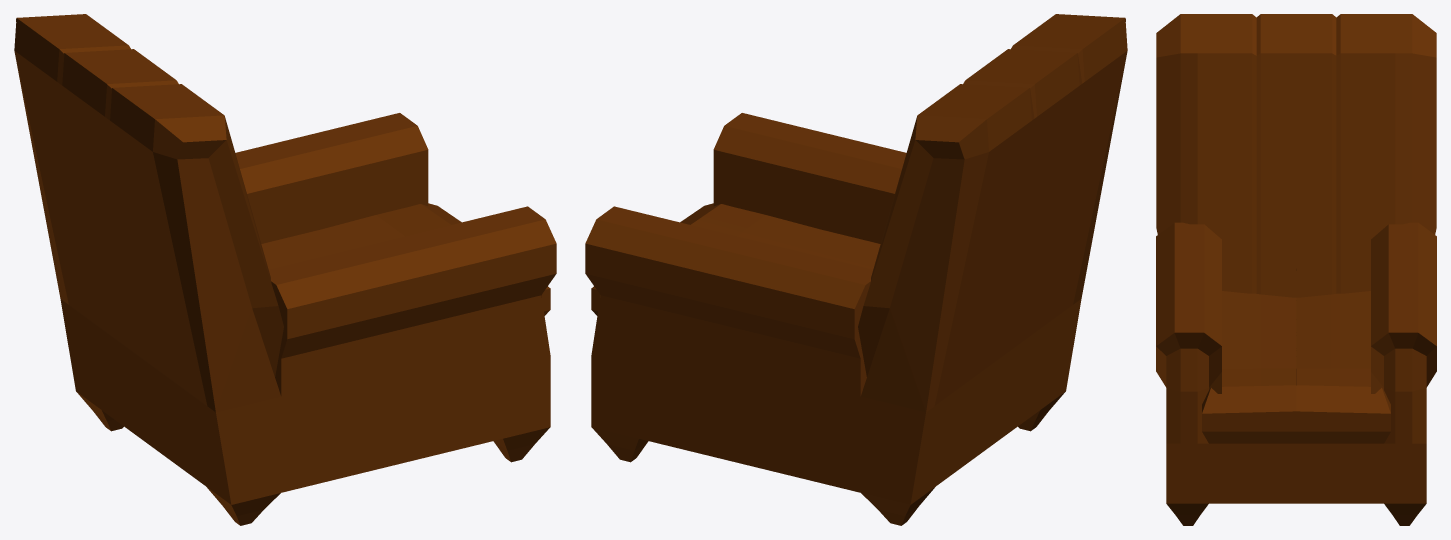
File: Chair.fbx
3 views of the same model, side by side, from view 1: azimuth 30°, elevation 25°; view 2: azimuth 150°, elevation 25°; view 3: azimuth 270°, elevation 25° (orthographic). The views are drawn at different scales.
Parts seen in each view (by area): view 1: Cube.002; view 2: Cube.002; view 3: Cube.002.
Part boxes in pixels (left/top/right/bottom): Cube.002: left=14, top=14, right=556, bottom=525; Cube.002: left=585, top=14, right=1127, bottom=525; Cube.002: left=1156, top=14, right=1436, bottom=525.
Size of the model in its own units: 305 by 306 by 216.
